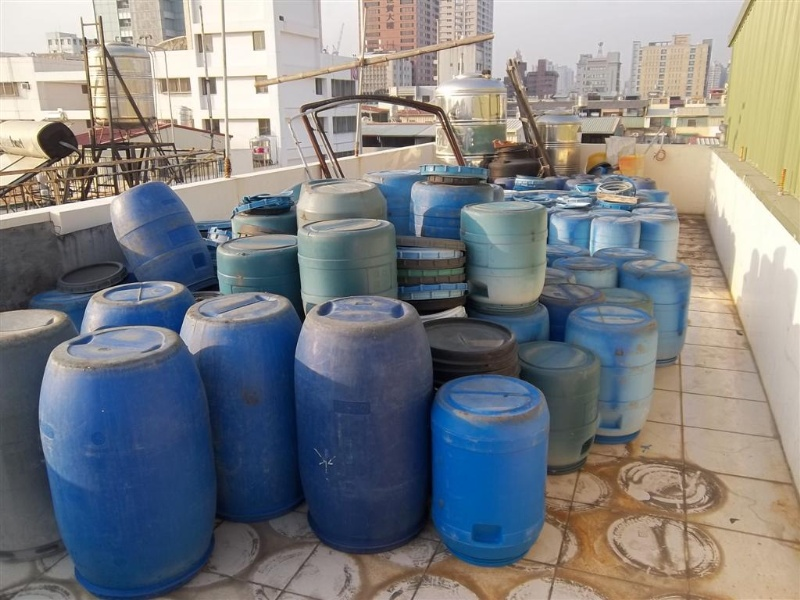bucket: (38, 324, 218, 599), (292, 295, 434, 551), (180, 291, 312, 523), (430, 368, 552, 569), (564, 304, 660, 446), (105, 176, 219, 293), (516, 338, 604, 475), (454, 199, 549, 316)
plate: (420, 314, 516, 365), (52, 258, 129, 295), (417, 158, 490, 182), (395, 230, 470, 252), (391, 245, 461, 264), (230, 194, 295, 213), (395, 281, 470, 295), (394, 258, 467, 271), (595, 190, 640, 208)
water_tower: (435, 71, 509, 170), (534, 106, 586, 181)
